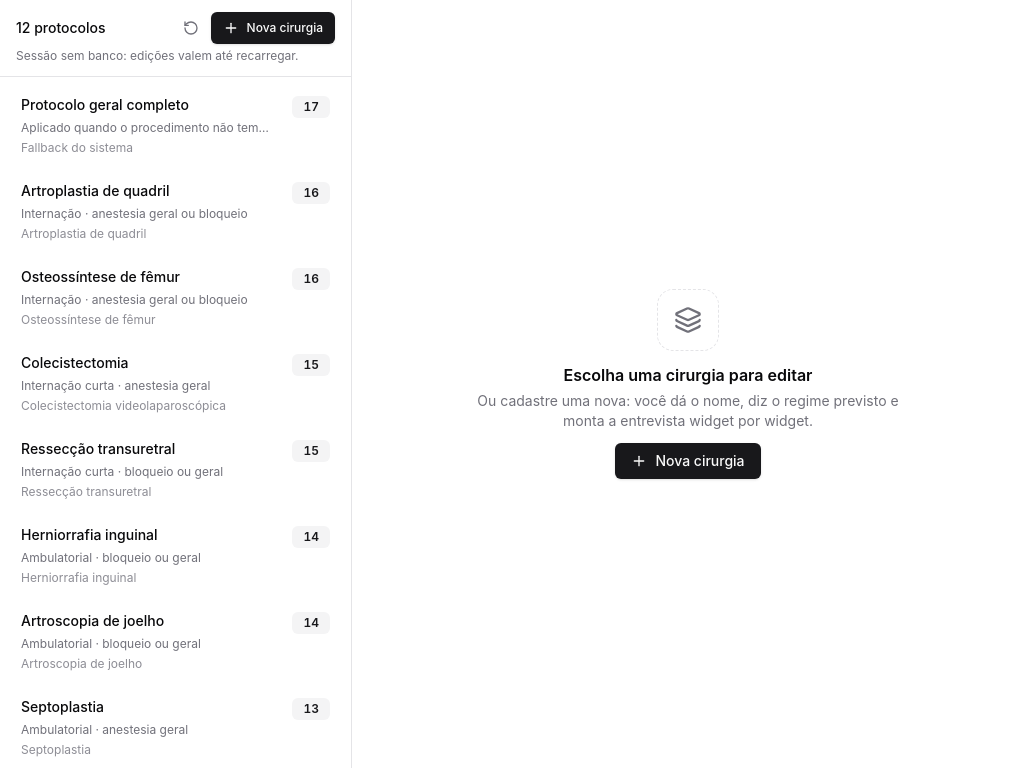
Test: Repertório › Protocolos › a tela nunca promete decisão clínica
Click the button "Artroplastia de quadril" at (176, 212), box [8,171,343,253]
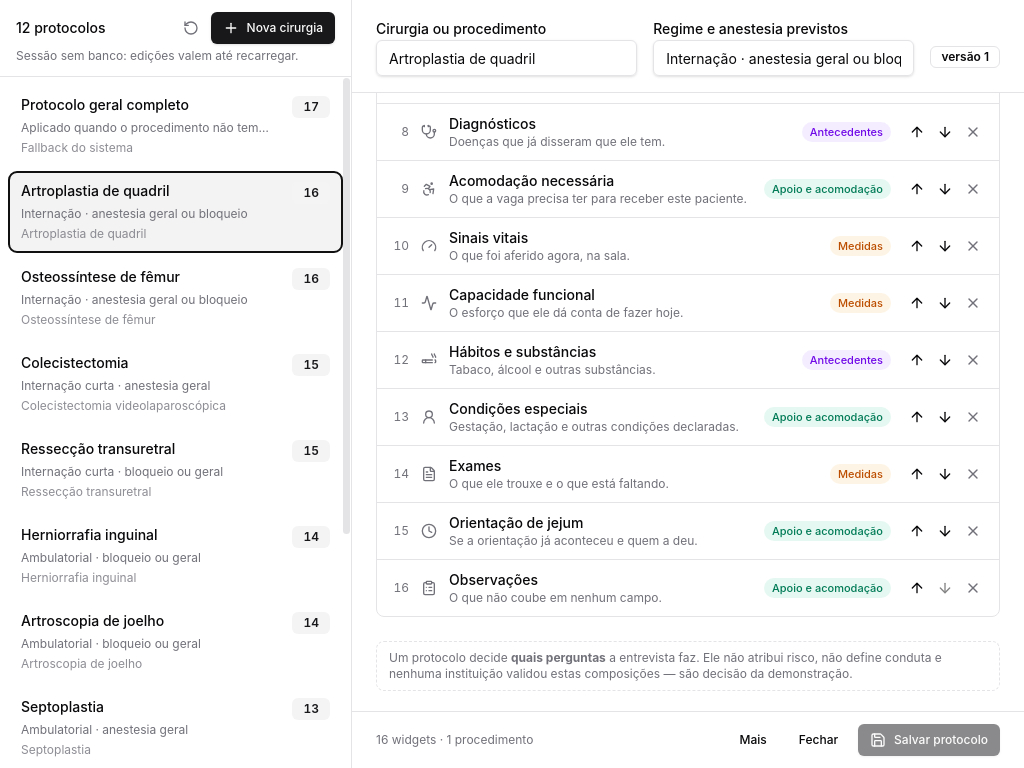
Expected: the text "nenhuma instituição validou" is shown, [389,650,942,681]
